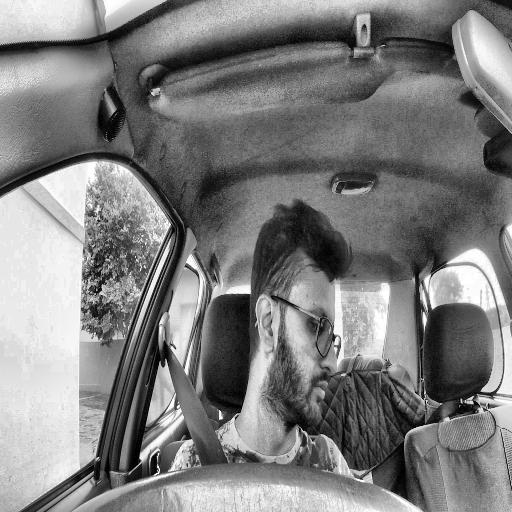awake: (249, 200, 350, 431)
